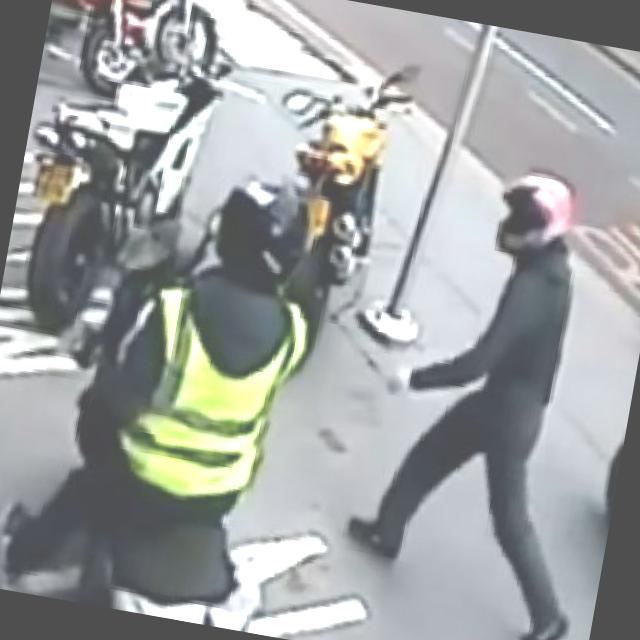Person: (0, 147, 334, 631), (333, 145, 633, 630)
